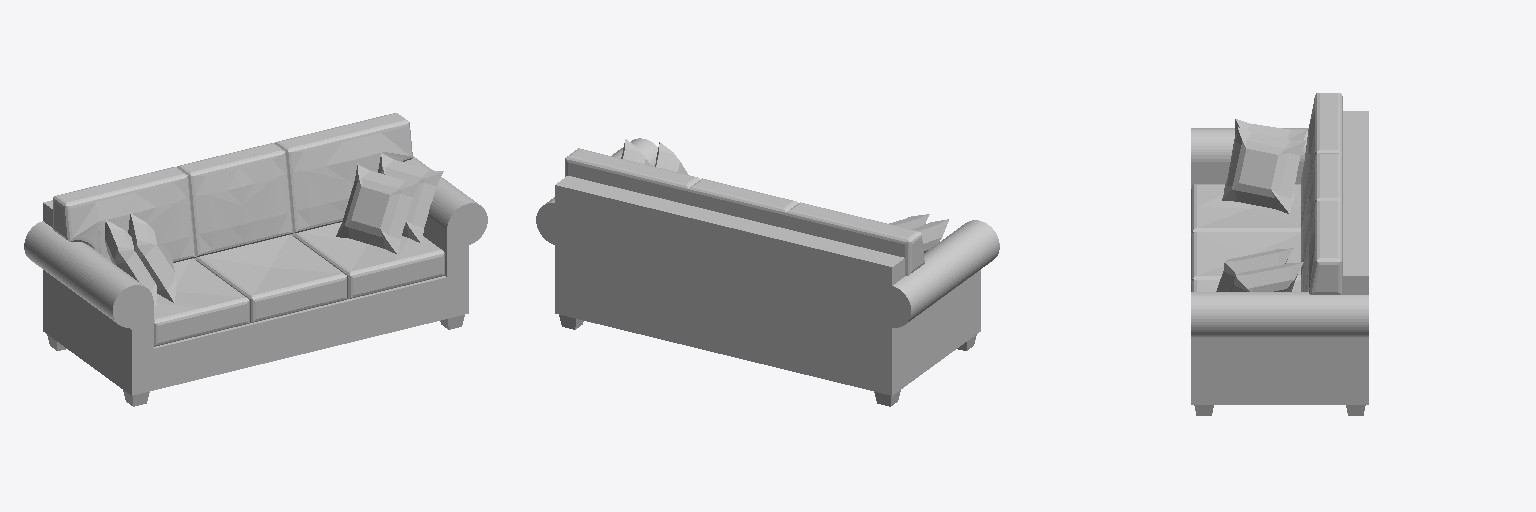
Rendered from couch.obj.
The picture shows the model from 3 angles: view 1: azimuth 30°, elevation 25°; view 2: azimuth 150°, elevation 25°; view 3: azimuth 270°, elevation 25°; orthographic projection.
Parts seen in each view (by area): view 1: Component_19_002, Component_19_001, Group_006, Group_010, Group_008, Group_012; view 2: Component_19_002, Component_19_001; view 3: Component_19_001, Component_19_002, Group_008, Group_009, Group_005, Group_012.
Part boxes in pixels (x1,y1,x2,y2): Component_19_002: (24, 154, 299, 395); Component_19_001: (227, 113, 487, 354); Group_006: (336, 164, 419, 253); Group_010: (378, 153, 443, 242); Group_008: (130, 213, 176, 302); Group_012: (106, 220, 156, 305); Component_19_002: (724, 190, 999, 395); Component_19_001: (536, 138, 747, 354); Component_19_001: (1191, 176, 1368, 404); Component_19_002: (1191, 93, 1368, 257); Group_008: (1222, 127, 1305, 213); Group_009: (1232, 262, 1303, 291); Group_005: (1216, 248, 1293, 291); Group_012: (1224, 119, 1306, 201).
Size of the model in its own units: 2150 by 879 by 879.